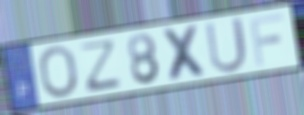8: (126, 32, 161, 87)
F: (248, 11, 286, 68)
O: (36, 44, 81, 100)
U: (203, 14, 250, 75)
X: (159, 22, 212, 83)
Z: (80, 36, 123, 94)
